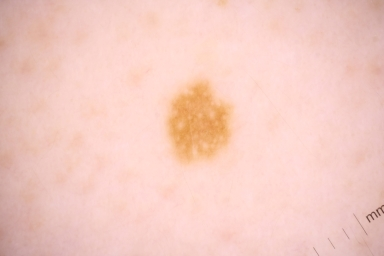melanoma: (167, 76, 236, 165)
